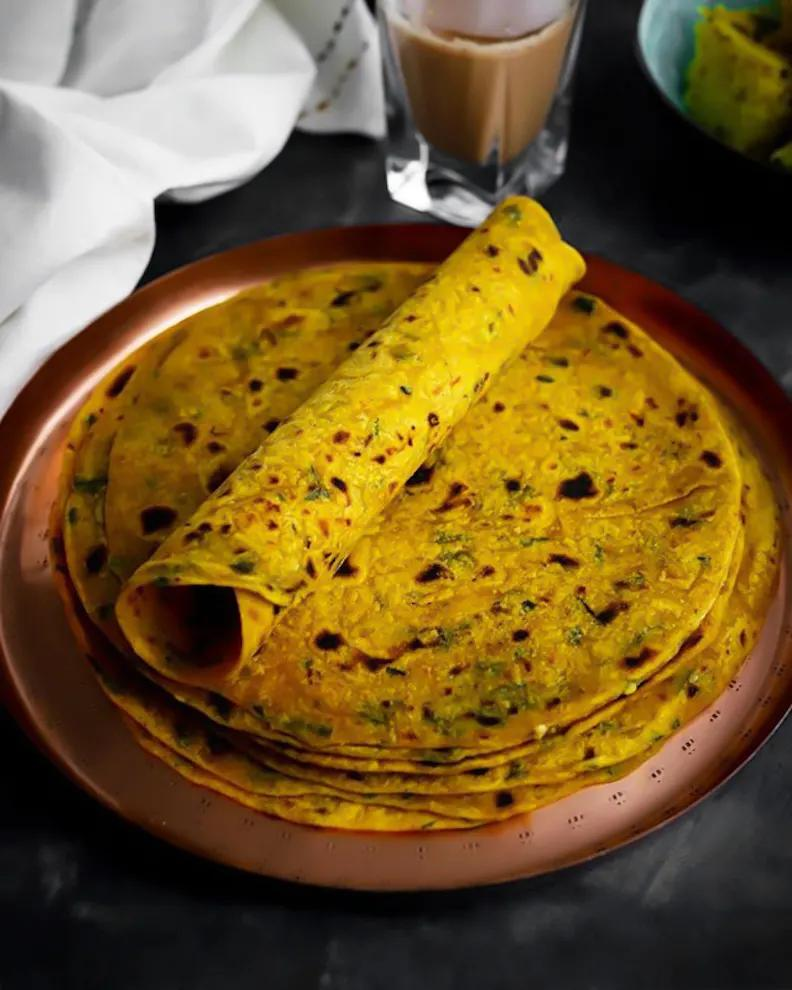thepla: (93, 221, 768, 810)
